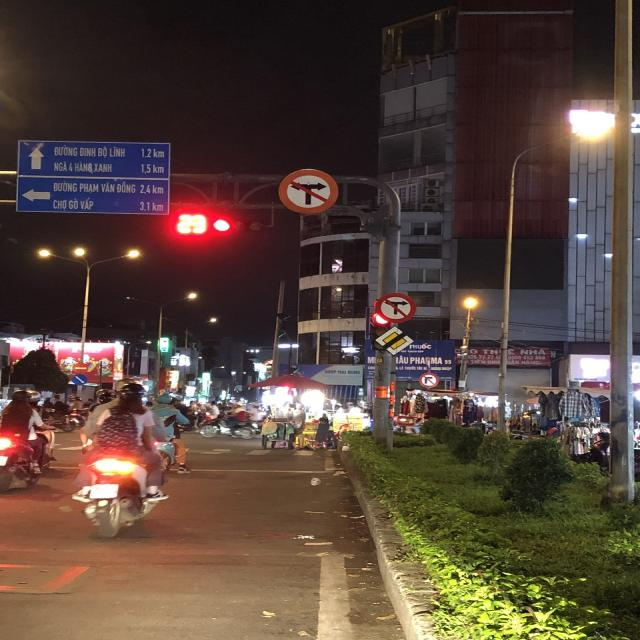Bien bao cam re phai: (415, 371, 442, 389)
